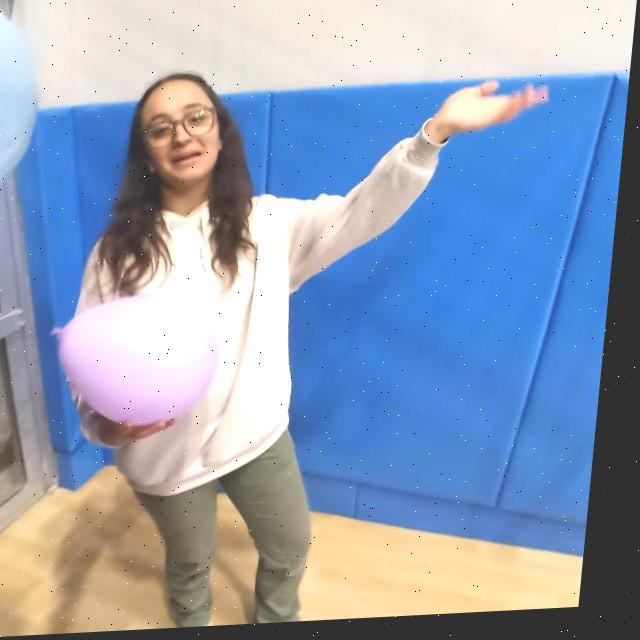balloon: (54, 291, 233, 436), (0, 8, 49, 211)
